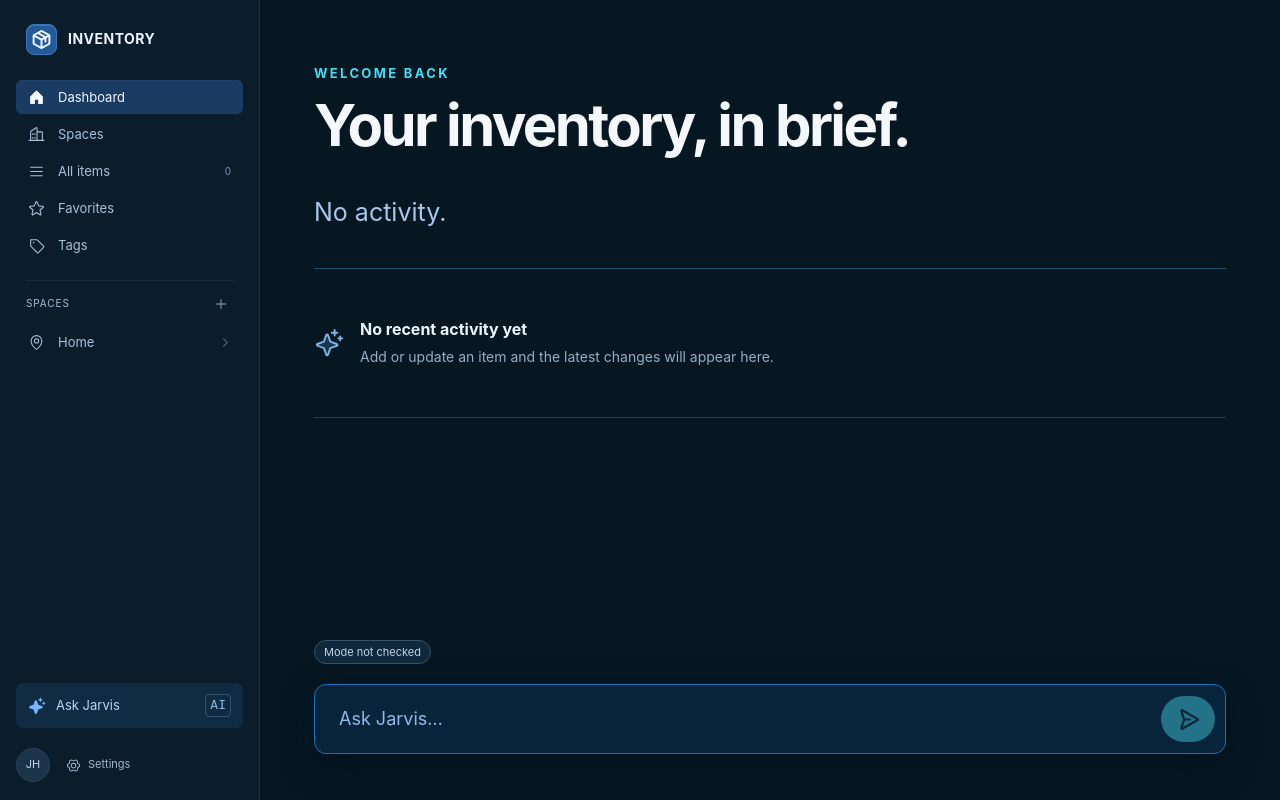
it: empty space offers a contextual unsaved Add with its full destination and no phantom on Cancel
Click the button "Home" at point(130, 342), box left=16, top=325, right=243, bottom=359
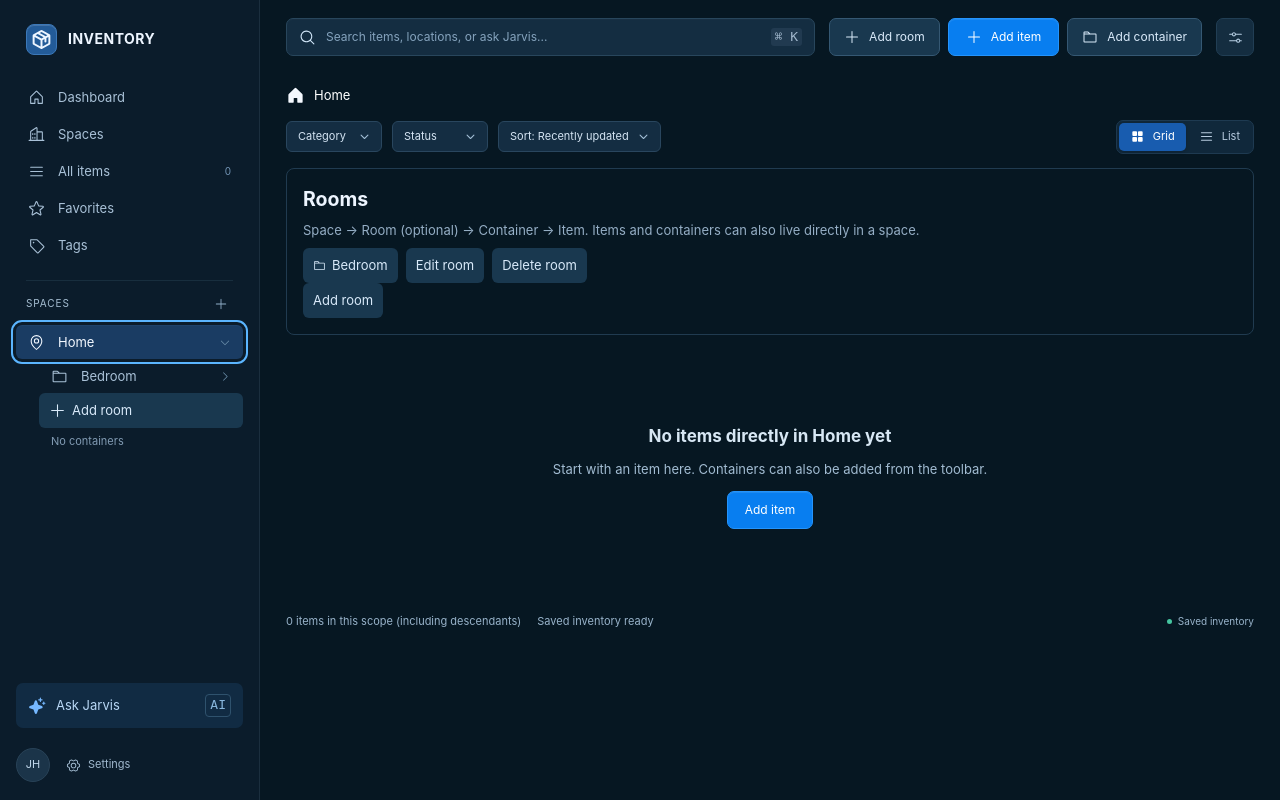
Expected: the text "No items directly in Home yet" is shown, left=649, top=424, right=891, bottom=448
Expected: the number of buttons "Add item" is 1
Click the button "Add item" below "No items directly in Home yet" at point(770, 510), box left=727, top=491, right=813, bottom=529
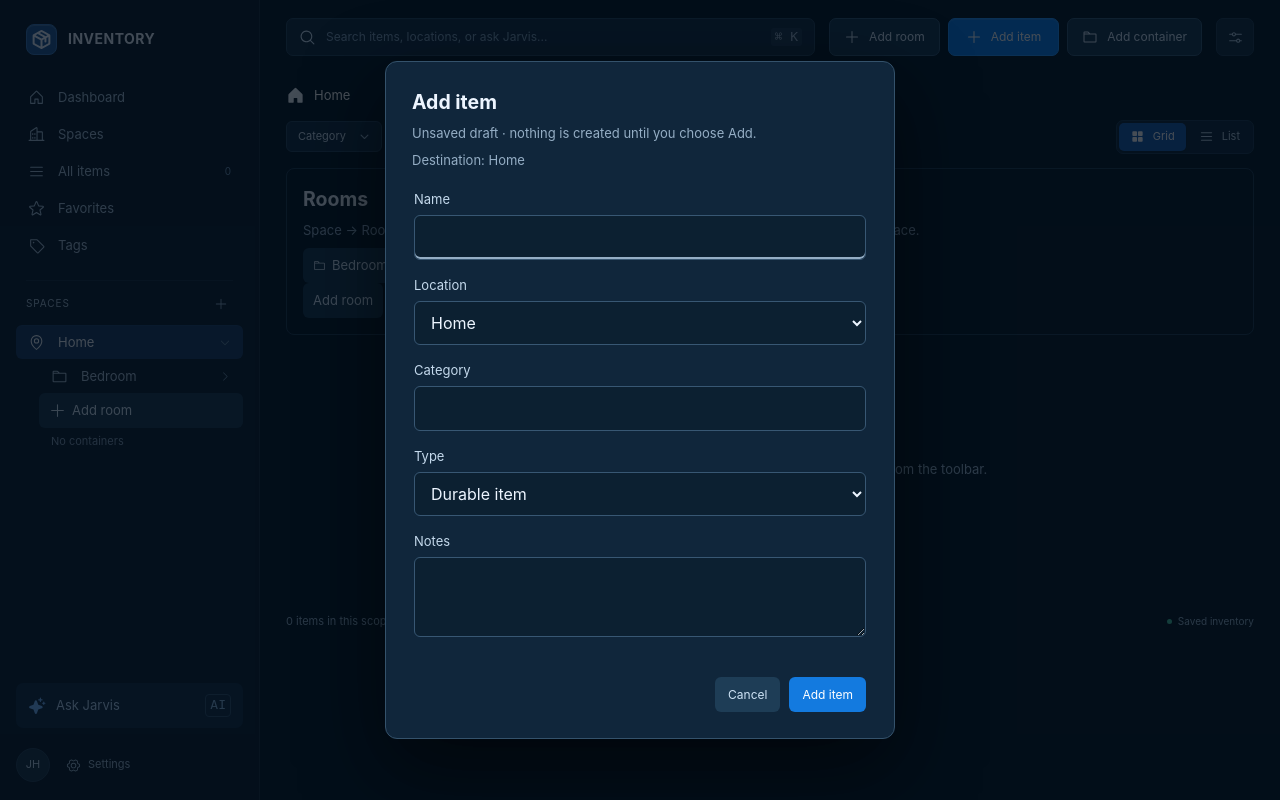
Click the button "Cancel" at point(748, 694), box left=715, top=677, right=780, bottom=712
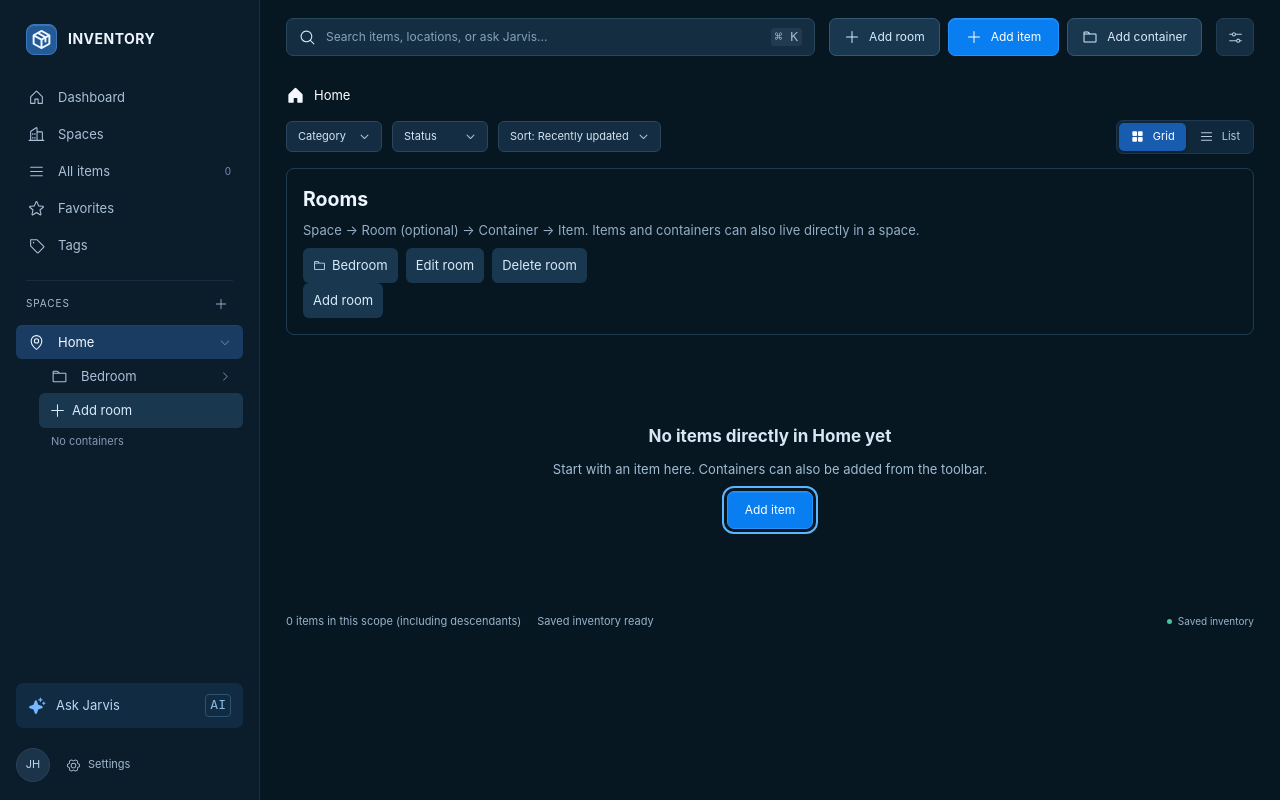
Expected: the dialog is gone
